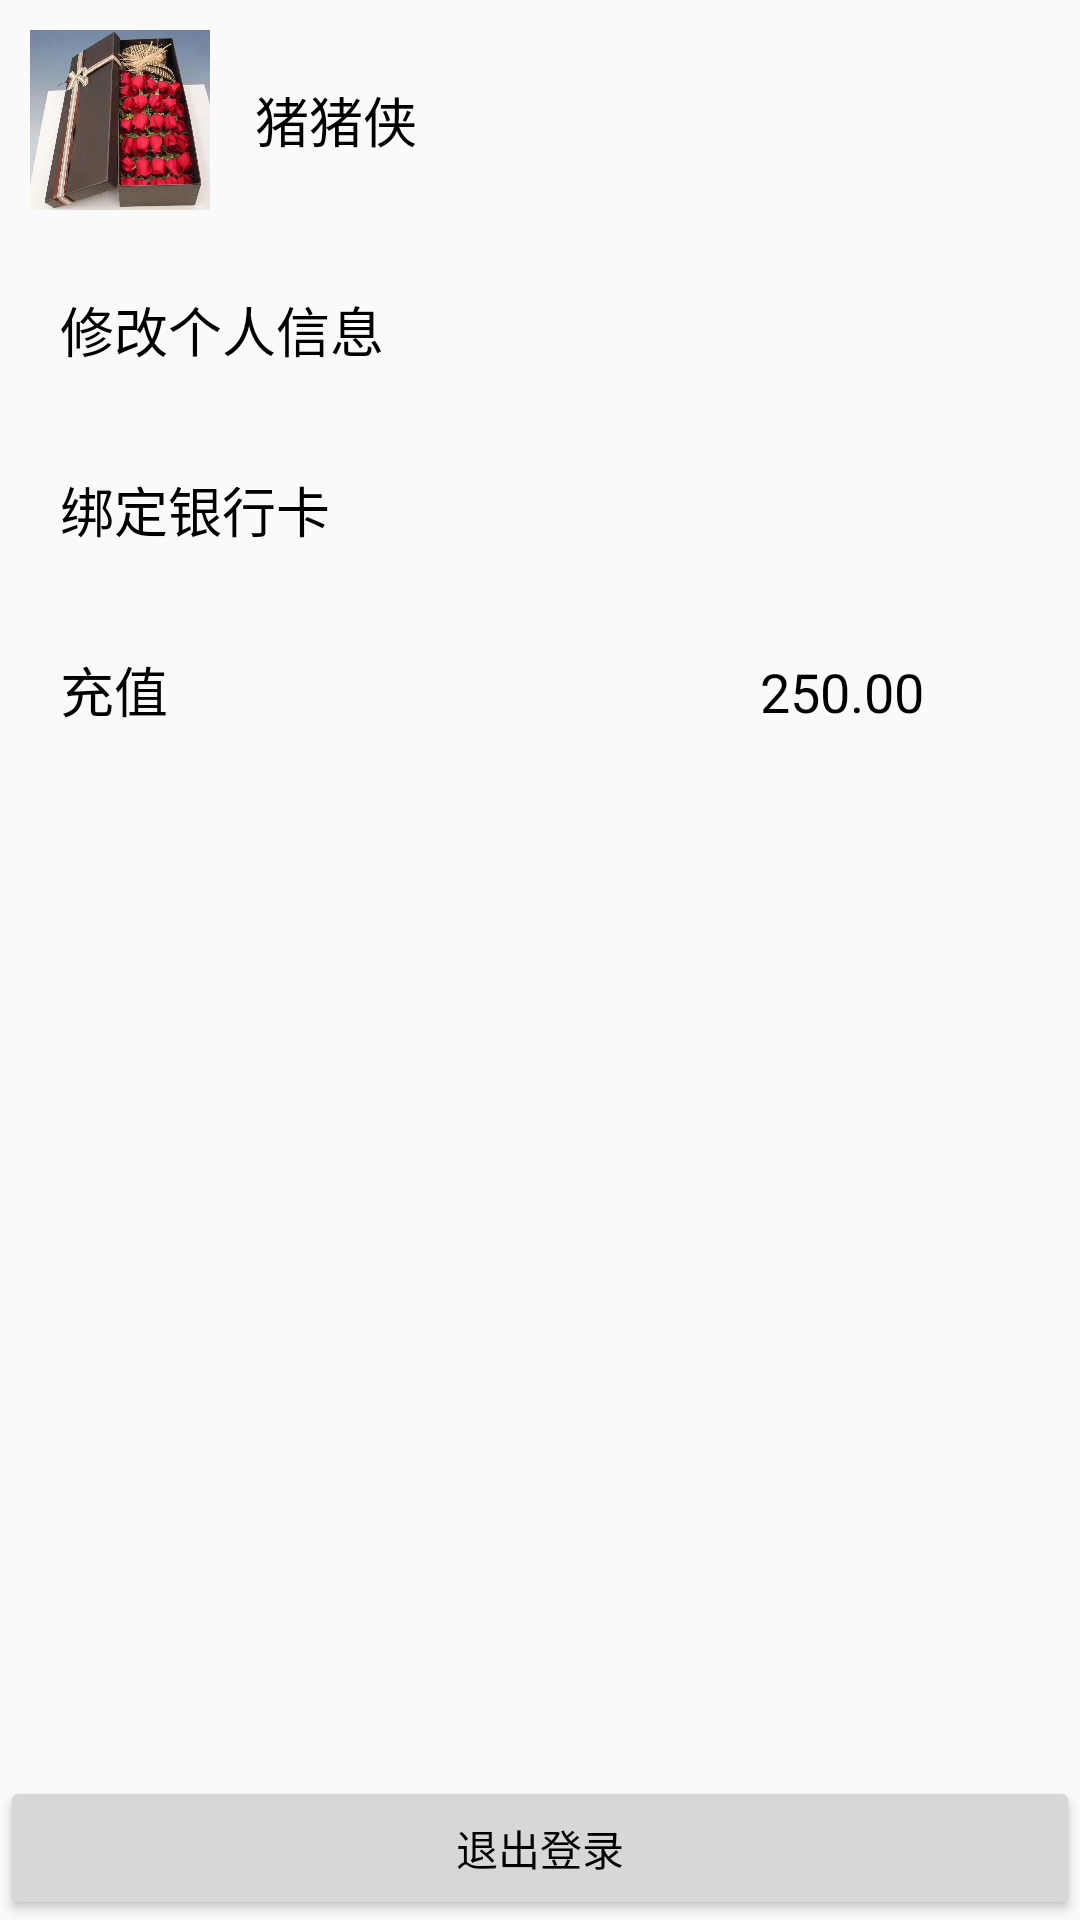

Screen size 1080×1920. Icon name, then its box in pixels as (x1, y1, x2, y2):
goods flower: (30, 30, 210, 210)
